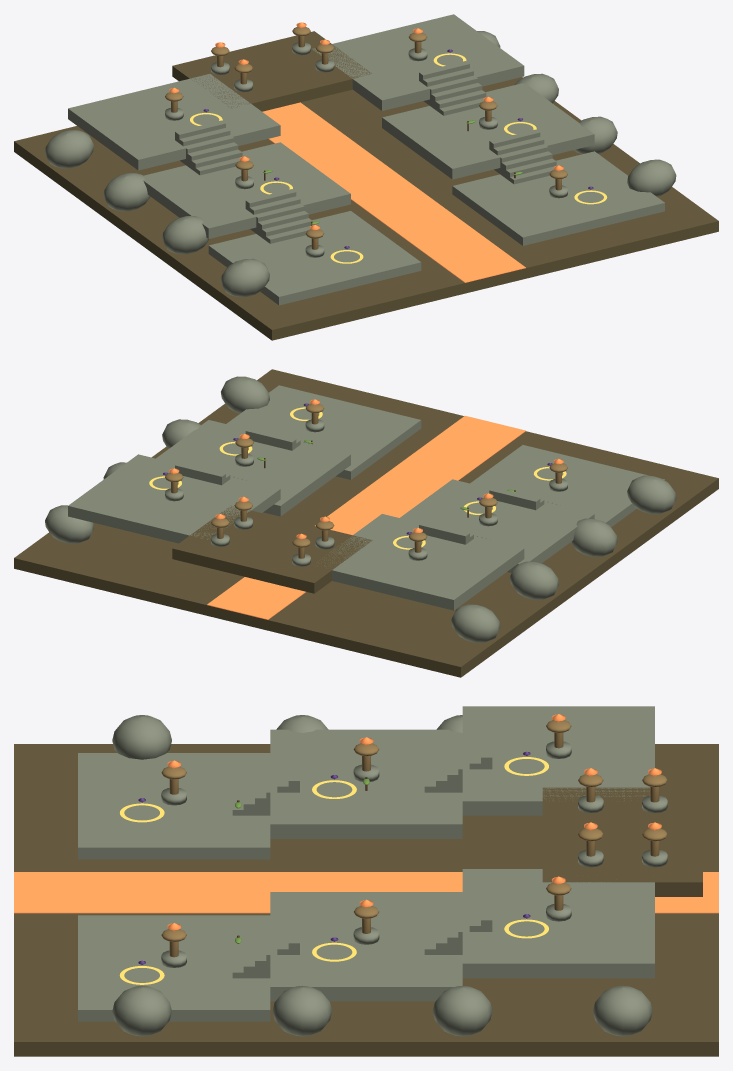
The model's file is ember_restored.glb.
3 views of the same model, one above another, from view 1: azimuth 30°, elevation 25°; view 2: azimuth 150°, elevation 25°; view 3: azimuth 270°, elevation 25° (orthographic). The views are drawn at different scales.
Parts seen in each view (by area): view 1: terrace (×6), ground, lava_channel, rock (×7), nest; view 2: terrace (×6), ground, lava_channel, rock (×7), nest, step (×4); view 3: terrace (×6), ground, lava_channel, nest, rock (×6), step (×4).
Part boxes in pixels (x1,y1,x2,y2): terrace (×6): [68, 14, 664, 305]; ground: [14, 77, 718, 340]; lava_channel: [262, 102, 525, 282]; rock (×7): [45, 73, 676, 297]; nest: [172, 31, 371, 111]; terrace (×6): [68, 385, 664, 610]; ground: [14, 369, 718, 677]; lava_channel: [207, 415, 525, 619]; rock (×7): [45, 376, 676, 642]; nest: [172, 506, 372, 593]; step (×4): [175, 428, 540, 544]; terrace (×6): [78, 706, 654, 1021]; ground: [14, 744, 718, 1056]; lava_channel: [14, 872, 718, 913]; nest: [542, 787, 702, 896]; rock (×6): [112, 715, 652, 1036]; step (×4): [255, 744, 458, 978].
Bounding box in the file's own units: 22.18 × 3.88 × 22.
